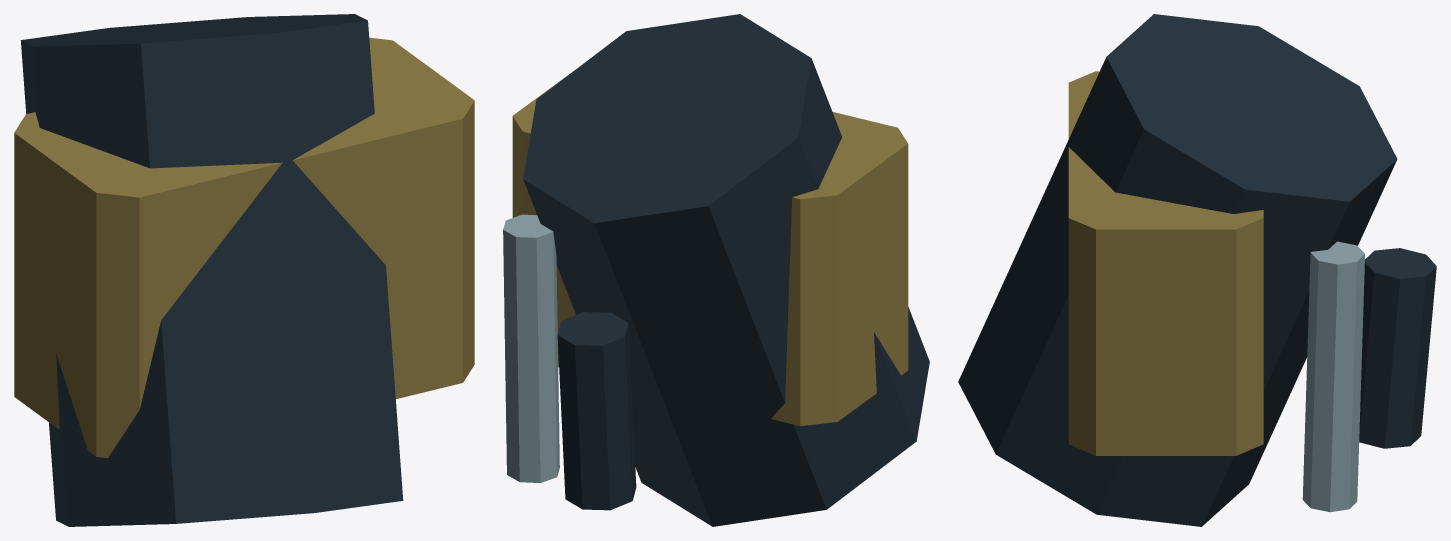
File: enemy_gunner_thigh_l.obj
3 views of the same model, side by side, from view 1: azimuth 30°, elevation 25°; view 2: azimuth 150°, elevation 25°; view 3: azimuth 270°, elevation 25° (orthographic). The views are drawn at different scales.
Size of the model in its own units: 0.5035 by 0.6346 by 0.6133.
